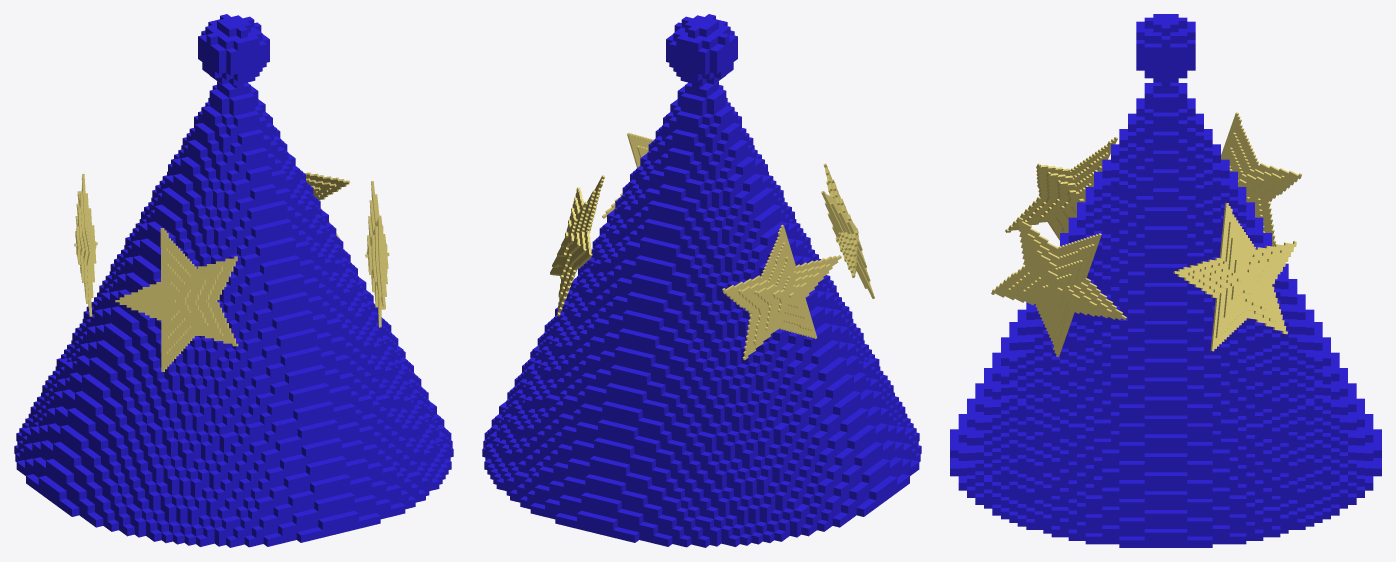
File: WizardHat.glb
3 views of the same model, side by side, from view 1: azimuth 30°, elevation 25°; view 2: azimuth 150°, elevation 25°; view 3: azimuth 270°, elevation 25° (orthographic).
Parts seen in each view (by area): view 1: Cone, star.003, star.001, star.002, star; view 2: Cone, star.002, star, star.003, star.001; view 3: Cone, star, star.001, star.003, star.002.
Boxes of the visible parts, <box> form: Cone: <box>14,14,453,547</box>; star.003: <box>115,228,238,371</box>; star.001: <box>365,181,389,327</box>; star.002: <box>74,174,97,316</box>; star: <box>303,172,350,238</box>; Cone: <box>482,14,921,547</box>; star.002: <box>722,224,841,360</box>; star: <box>550,175,604,316</box>; star.003: <box>821,163,874,298</box>; star.001: <box>602,133,653,218</box>; Cone: <box>950,14,1381,547</box>; star: <box>1173,202,1296,351</box>; star.001: <box>991,217,1126,356</box>; star.003: <box>1005,137,1117,240</box>; star.002: <box>1221,112,1302,246</box>.
Size of the model in its own units: 1.95 by 2.18 by 1.95.
